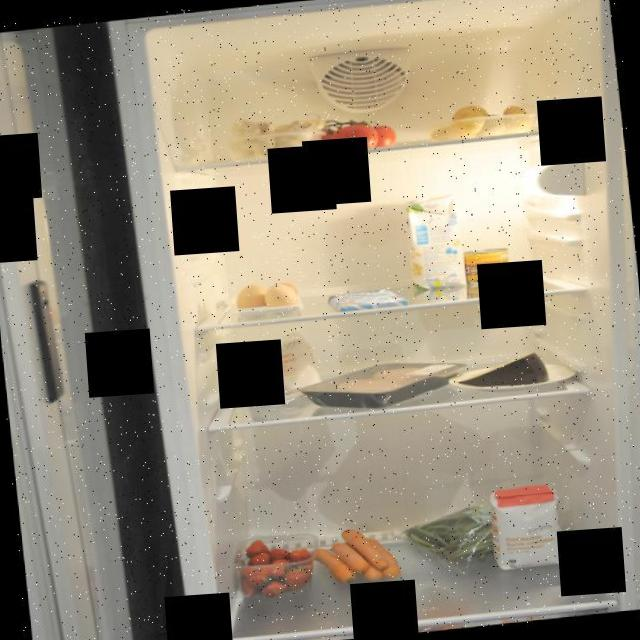Carne pollo: (327, 360, 434, 404)
Champiñones: (222, 109, 331, 162)
Huevos: (230, 277, 300, 316)
Leche: (404, 192, 466, 294)
Patata: (438, 97, 533, 141)
Queso: (450, 349, 550, 392)
Tomate: (314, 111, 400, 154)
Zanahoria: (304, 522, 402, 587)
